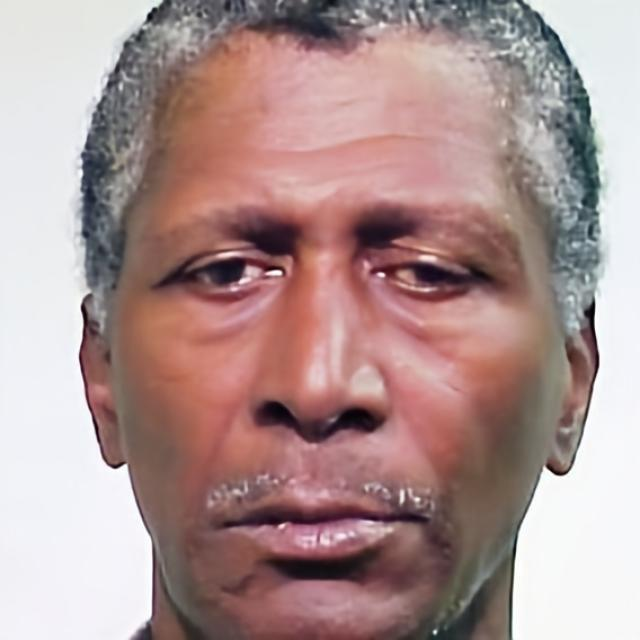sad: (128, 28, 550, 640)
